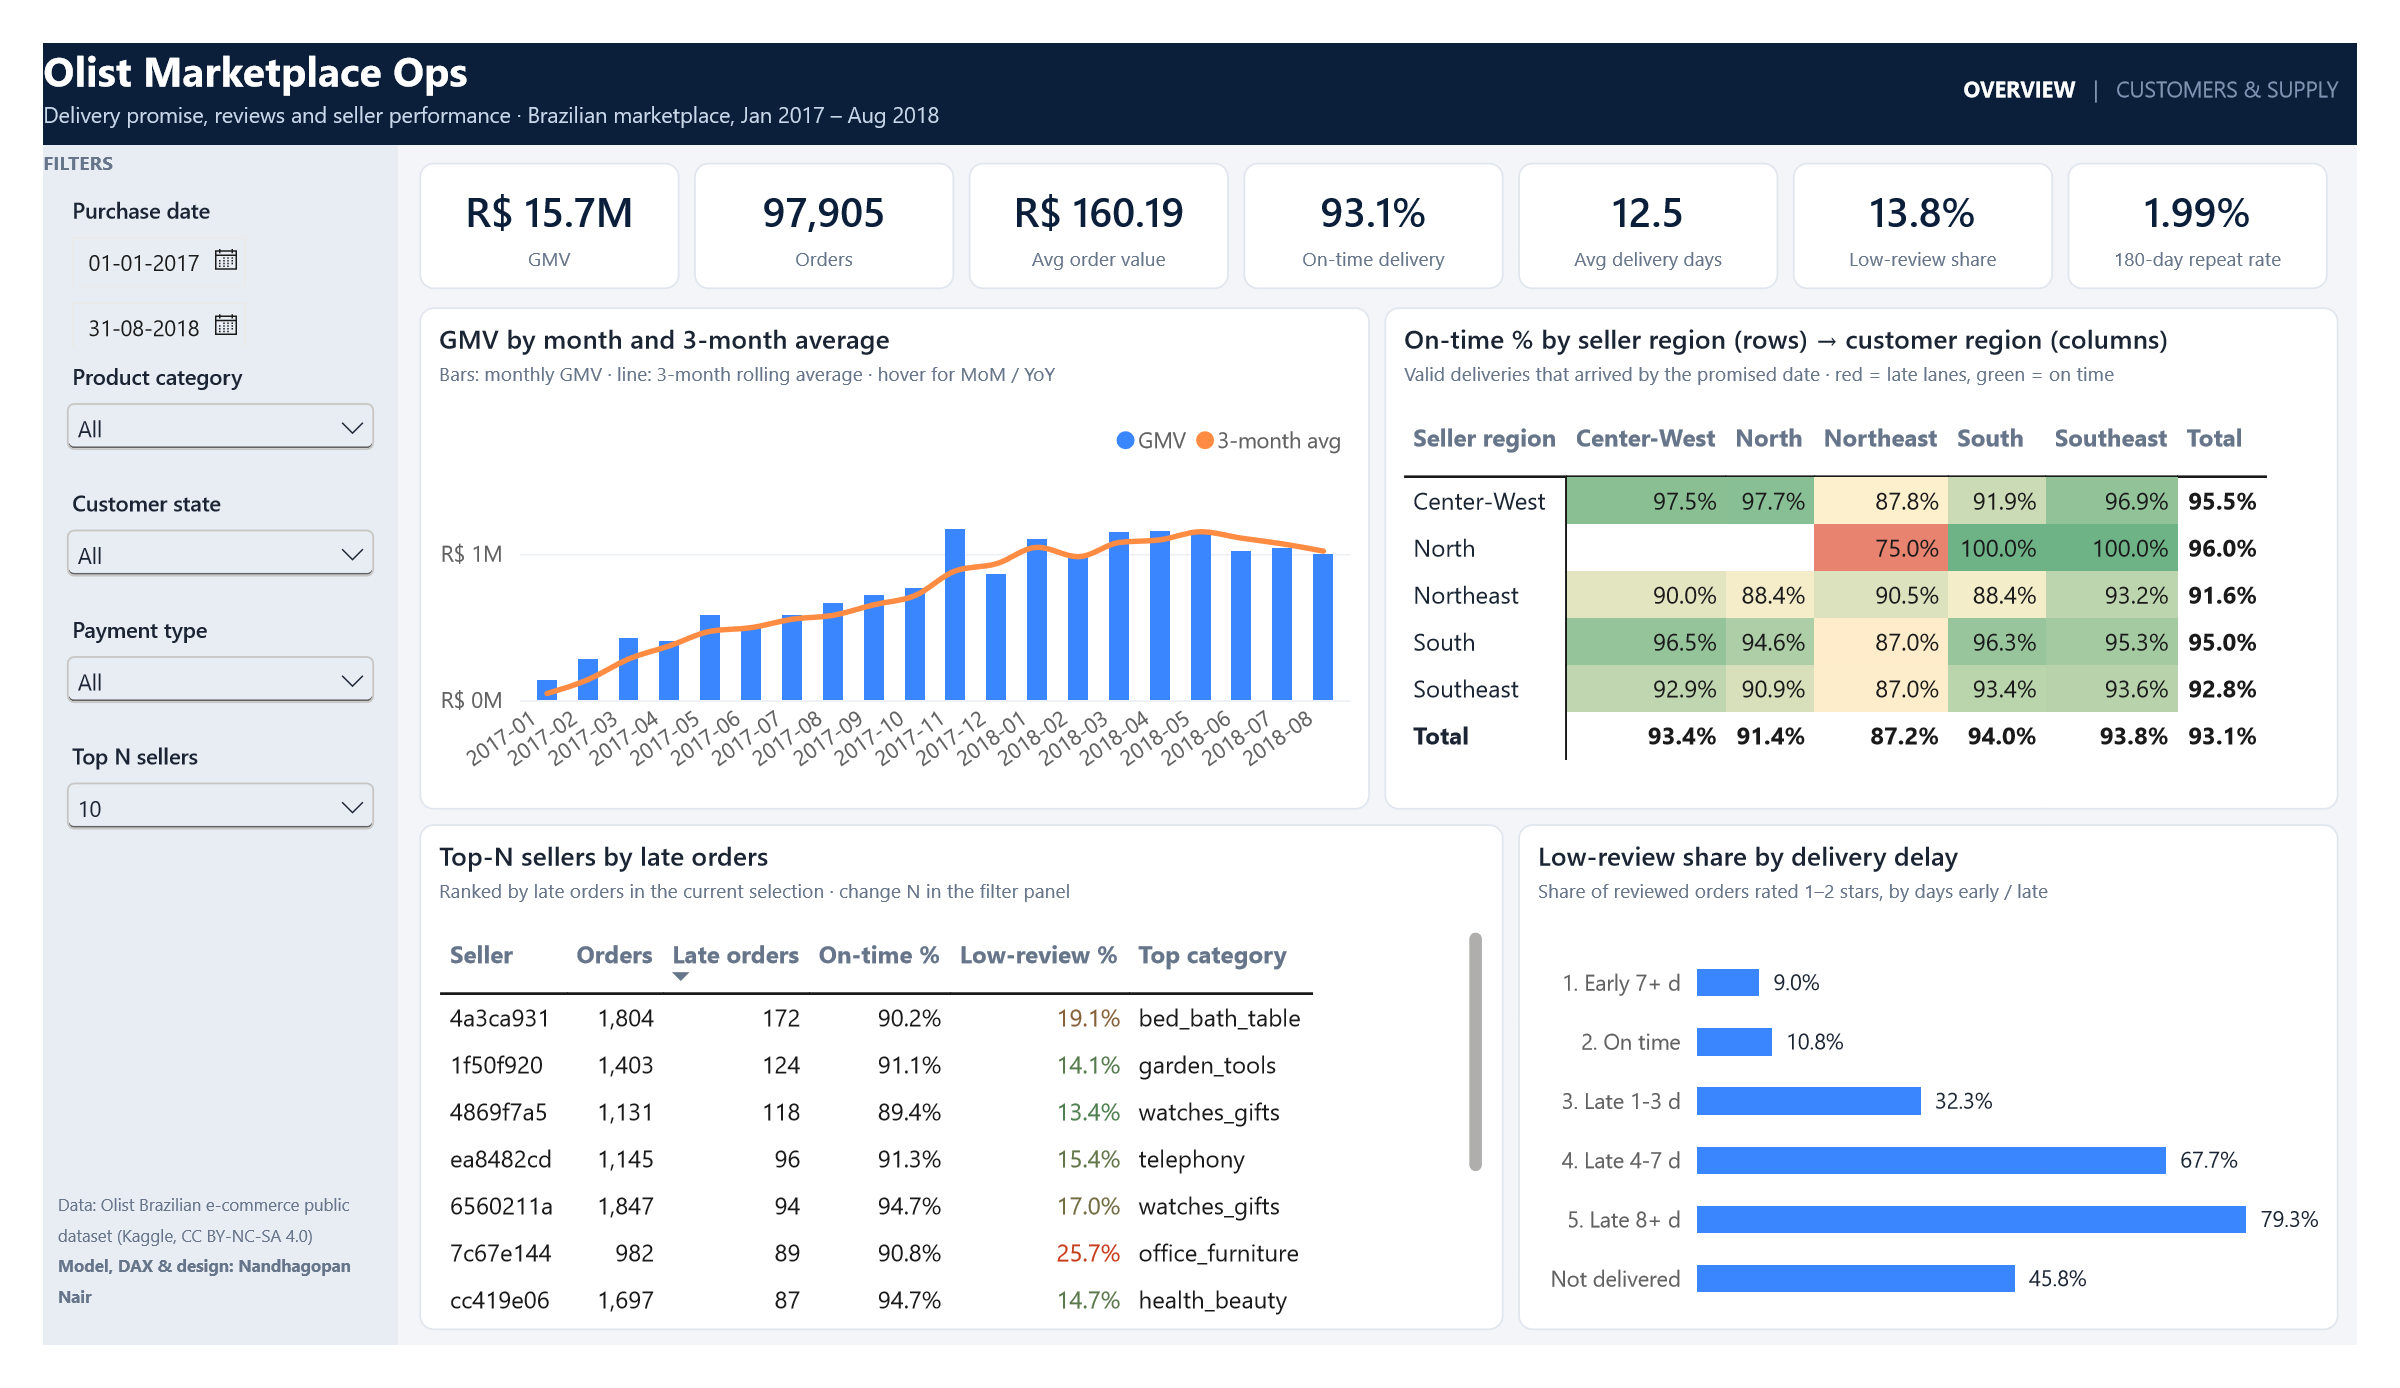

The page's visual inventory and layout, read from the dashboard file:
{"tool":"powerbi","page":{"name":"Marketplace Ops Overview","canvas":[1280,720],"ordinal":0},"visuals":[{"type":"textbox","box":[0,0,1280,56],"z":0},{"type":"textbox","box":[930,16,340,26],"z":1000},{"type":"textbox","box":[0,56,196,664],"z":2000},{"type":"textbox","box":[8,632,182,84],"z":3000},{"type":"slicer","fields":{"Values":["dim_date.date"]},"box":[8,84,180,84],"z":4000},{"type":"slicer","fields":{"Values":["dim_product.category_en"]},"box":[8,176,180,62],"z":5000},{"type":"slicer","fields":{"Values":["dim_customer.state"]},"box":[8,246,180,62],"z":6000},{"type":"slicer","fields":{"Values":["fact_order_items.payment_type_main"]},"box":[8,316,180,62],"z":7000},{"type":"slicer","fields":{"Values":["Top N.Top N"]},"box":[8,386,180,62],"z":8000},{"type":"card","fields":{"Values":["_Measures.GMV"]},"box":[208,66,144,70],"z":9000},{"type":"card","fields":{"Values":["_Measures.Orders"]},"box":[360,66,144,70],"z":10000},{"type":"card","fields":{"Values":["_Measures.AOV"]},"box":[512,66,144,70],"z":11000},{"type":"card","fields":{"Values":["_Measures.On-time %"]},"box":[664,66,144,70],"z":12000},{"type":"card","fields":{"Values":["_Measures.Avg Delivery Days"]},"box":[816,66,144,70],"z":13000},{"type":"card","fields":{"Values":["_Measures.Low Review %"]},"box":[968,66,144,70],"z":14000},{"type":"card","fields":{"Values":["_Measures.Repeat Rate 180d"]},"box":[1120,66,144,70],"z":15000},{"type":"lineClusteredColumnComboChart","title":"GMV by month and 3-month average","fields":{"Category":["dim_date.year_month"],"Y":["_Measures.GMV"],"Y2":["_Measures.GMV 3M Avg"]},"box":[208,146,526,278],"z":16000},{"type":"pivotTable","title":"On-time % by seller region (rows) → customer region (columns)","fields":{"Columns":["dim_customer.region"],"Rows":["dim_seller.region"],"Values":["_Measures.On-time %"]},"box":[742,146,528,278],"z":17000},{"type":"tableEx","title":"Top-N sellers by late orders","fields":{"Values":["dim_seller.seller_code","_Measures.Orders","_Measures.Late Orders","_Measures.On-time %","_Measures.Low Review %","_Measures.Main Category"]},"box":[208,432,600,280],"z":18000},{"type":"clusteredBarChart","title":"Low-review share by delivery delay","fields":{"Category":["fact_order_items.delay_bucket"],"Y":["_Measures.Low Review %"]},"box":[816,432,454,280],"z":19000}]}

Visuals, with their boxes in screenshot pixels (x1, y1, x2, y2), scaled from the page's 1280x720 canvas onto the 2400x1388 screenshot:
textbox: 0/0/2399/108
textbox: 1744/31/2381/81
textbox: 0/108/368/1387
textbox: 15/1218/356/1380
slicer - dim_date.date: 15/162/352/324
slicer - dim_product.category_en: 15/339/352/459
slicer - dim_customer.state: 15/474/352/594
slicer - fact_order_items.payment_type_main: 15/609/352/729
slicer - Top N.Top N: 15/744/352/864
card - _Measures.GMV: 390/127/660/262
card - _Measures.Orders: 675/127/945/262
card - _Measures.AOV: 960/127/1230/262
card - _Measures.On-time %: 1245/127/1515/262
card - _Measures.Avg Delivery Days: 1530/127/1800/262
card - _Measures.Low Review %: 1815/127/2085/262
card - _Measures.Repeat Rate 180d: 2100/127/2370/262
"GMV by month and 3-month average" lineClusteredColumnComboChart: 390/281/1376/817
"On-time % by seller region (rows) → customer region (columns)" pivotTable: 1391/281/2381/817
"Top-N sellers by late orders" tableEx: 390/833/1515/1373
"Low-review share by delivery delay" clusteredBarChart: 1530/833/2381/1373
